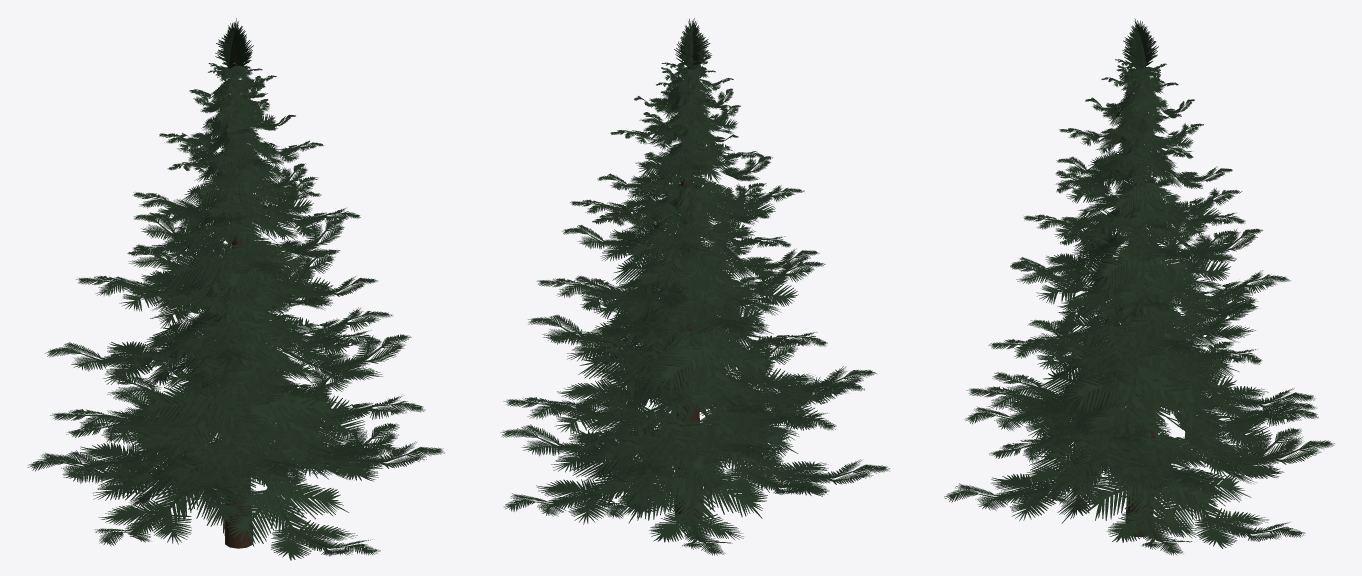
The picture shows the model from 3 angles, left to right: view 1: azimuth 30°, elevation 25°; view 2: azimuth 150°, elevation 25°; view 3: azimuth 270°, elevation 25°; orthographic projection. The views are drawn at different scales.
Visible parts, largest first — view 1: Branch_04_M_Pine_Branch_0.003; view 2: Branch_04_M_Pine_Branch_0.003; view 3: Branch_04_M_Pine_Branch_0.003.
Boxes of the visible parts, x1=… form: Branch_04_M_Pine_Branch_0.003: x1=27, y1=18, x2=444, y2=560; Branch_04_M_Pine_Branch_0.003: x1=500, y1=18, x2=890, y2=555; Branch_04_M_Pine_Branch_0.003: x1=944, y1=18, x2=1334, y2=555.
Bounding box in the file's own units: 3411 × 4543 × 3336.
Materials: 2 (1 with a texture image).
